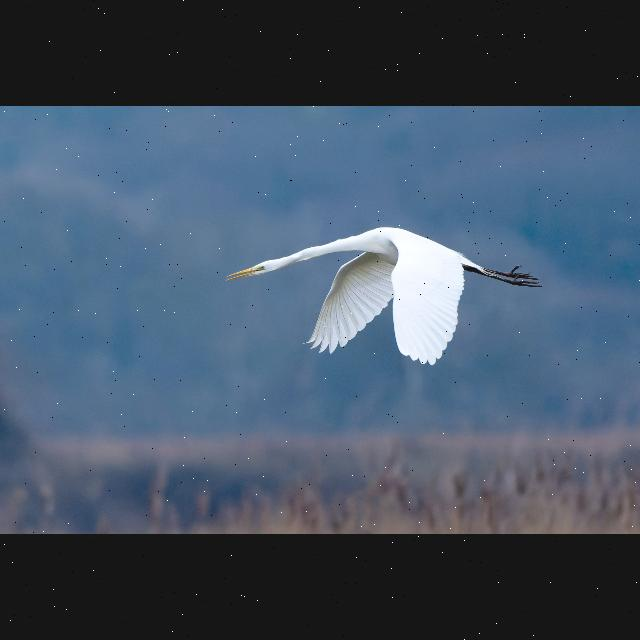egret: (219, 218, 545, 374)
